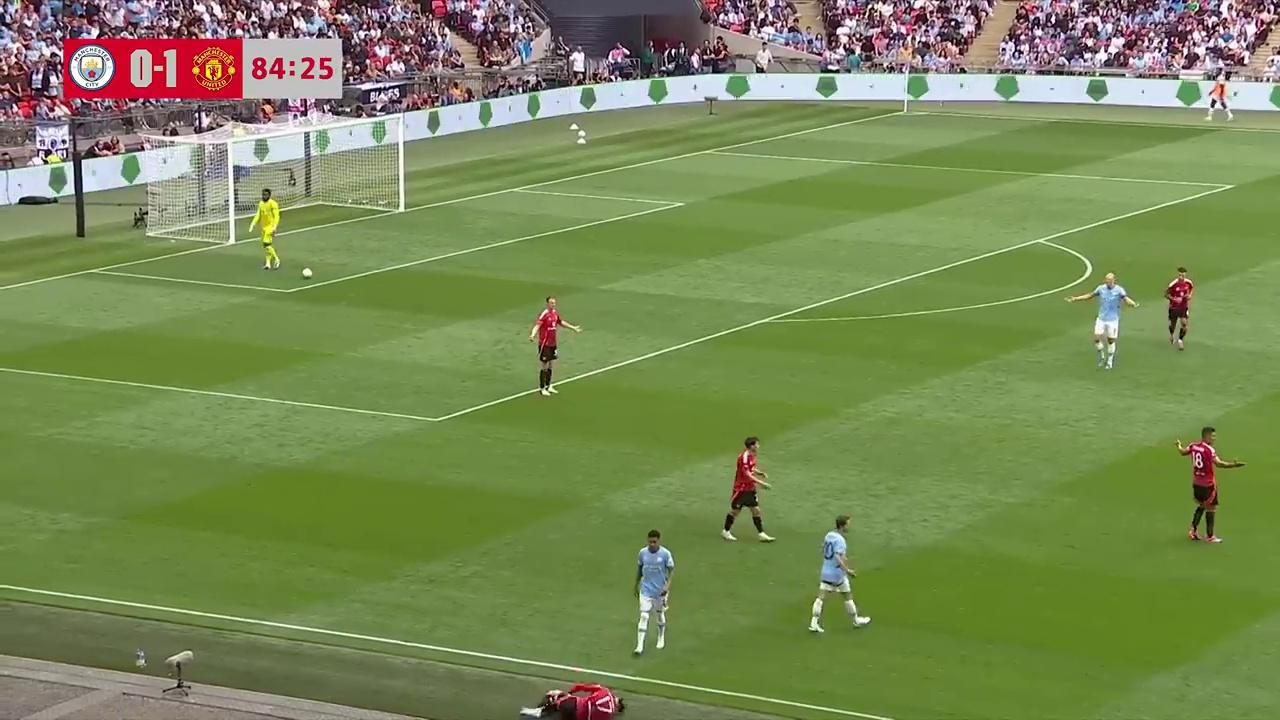ball: (300, 262, 314, 280)
player: (1177, 426, 1244, 544), (807, 515, 871, 634), (721, 436, 774, 544), (527, 295, 583, 396), (634, 528, 674, 654), (1090, 271, 1138, 370), (1164, 265, 1194, 351), (251, 186, 280, 270)
